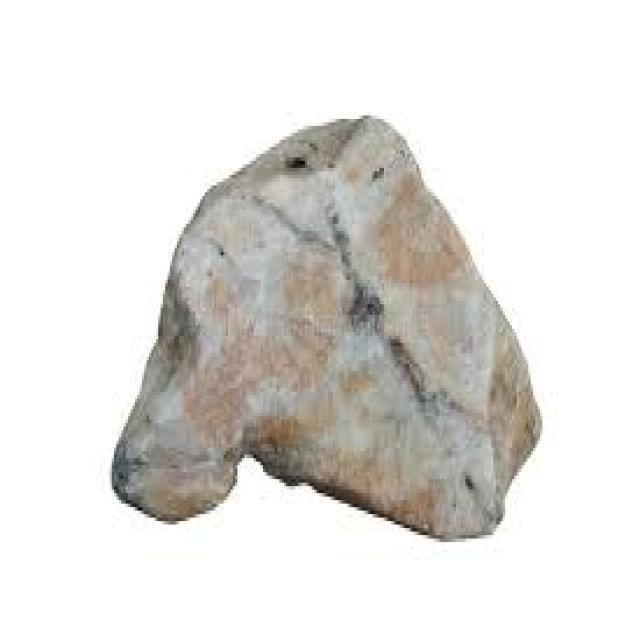Metamorphic: (88, 101, 547, 549)
